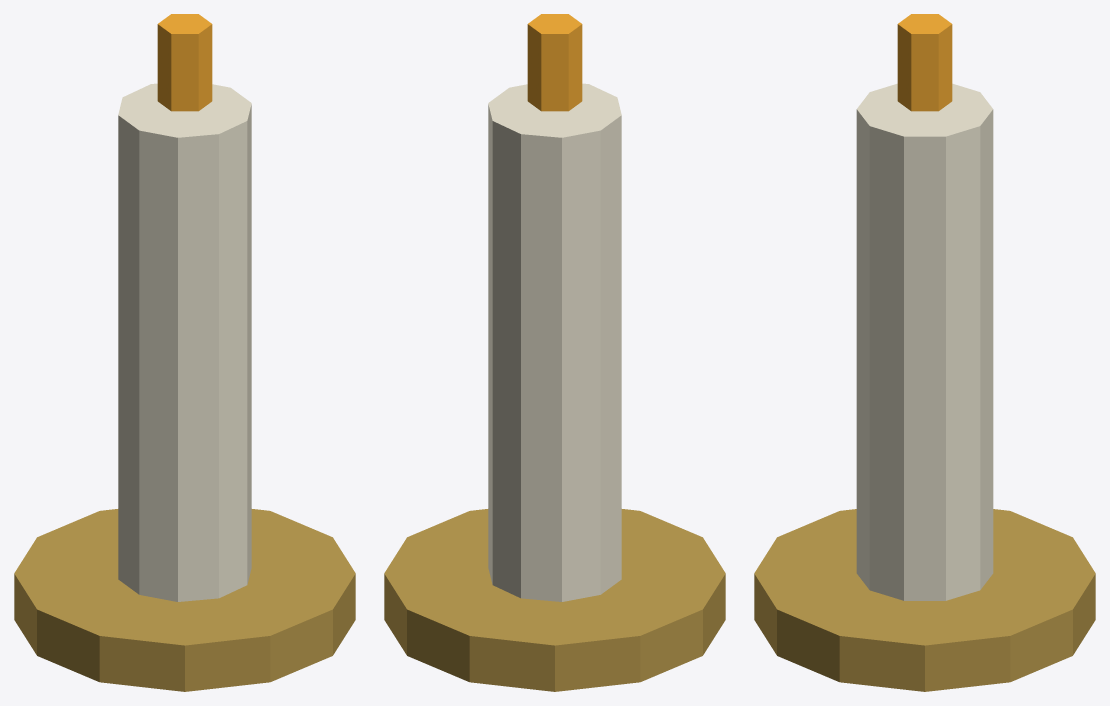
File: candle.glb
The picture shows the model from 3 angles, left to right: view 1: azimuth 30°, elevation 25°; view 2: azimuth 150°, elevation 25°; view 3: azimuth 270°, elevation 25°; orthographic projection.
Visible parts, largest first — view 1: candle; view 2: candle; view 3: candle.
Part boxes in pixels (left/top/right/bottom): candle: left=14, top=14, right=355, bottom=691; candle: left=384, top=14, right=725, bottom=691; candle: left=754, top=14, right=1095, bottom=691.
Size of the model in its own units: 0.1 by 0.1925 by 0.1.
